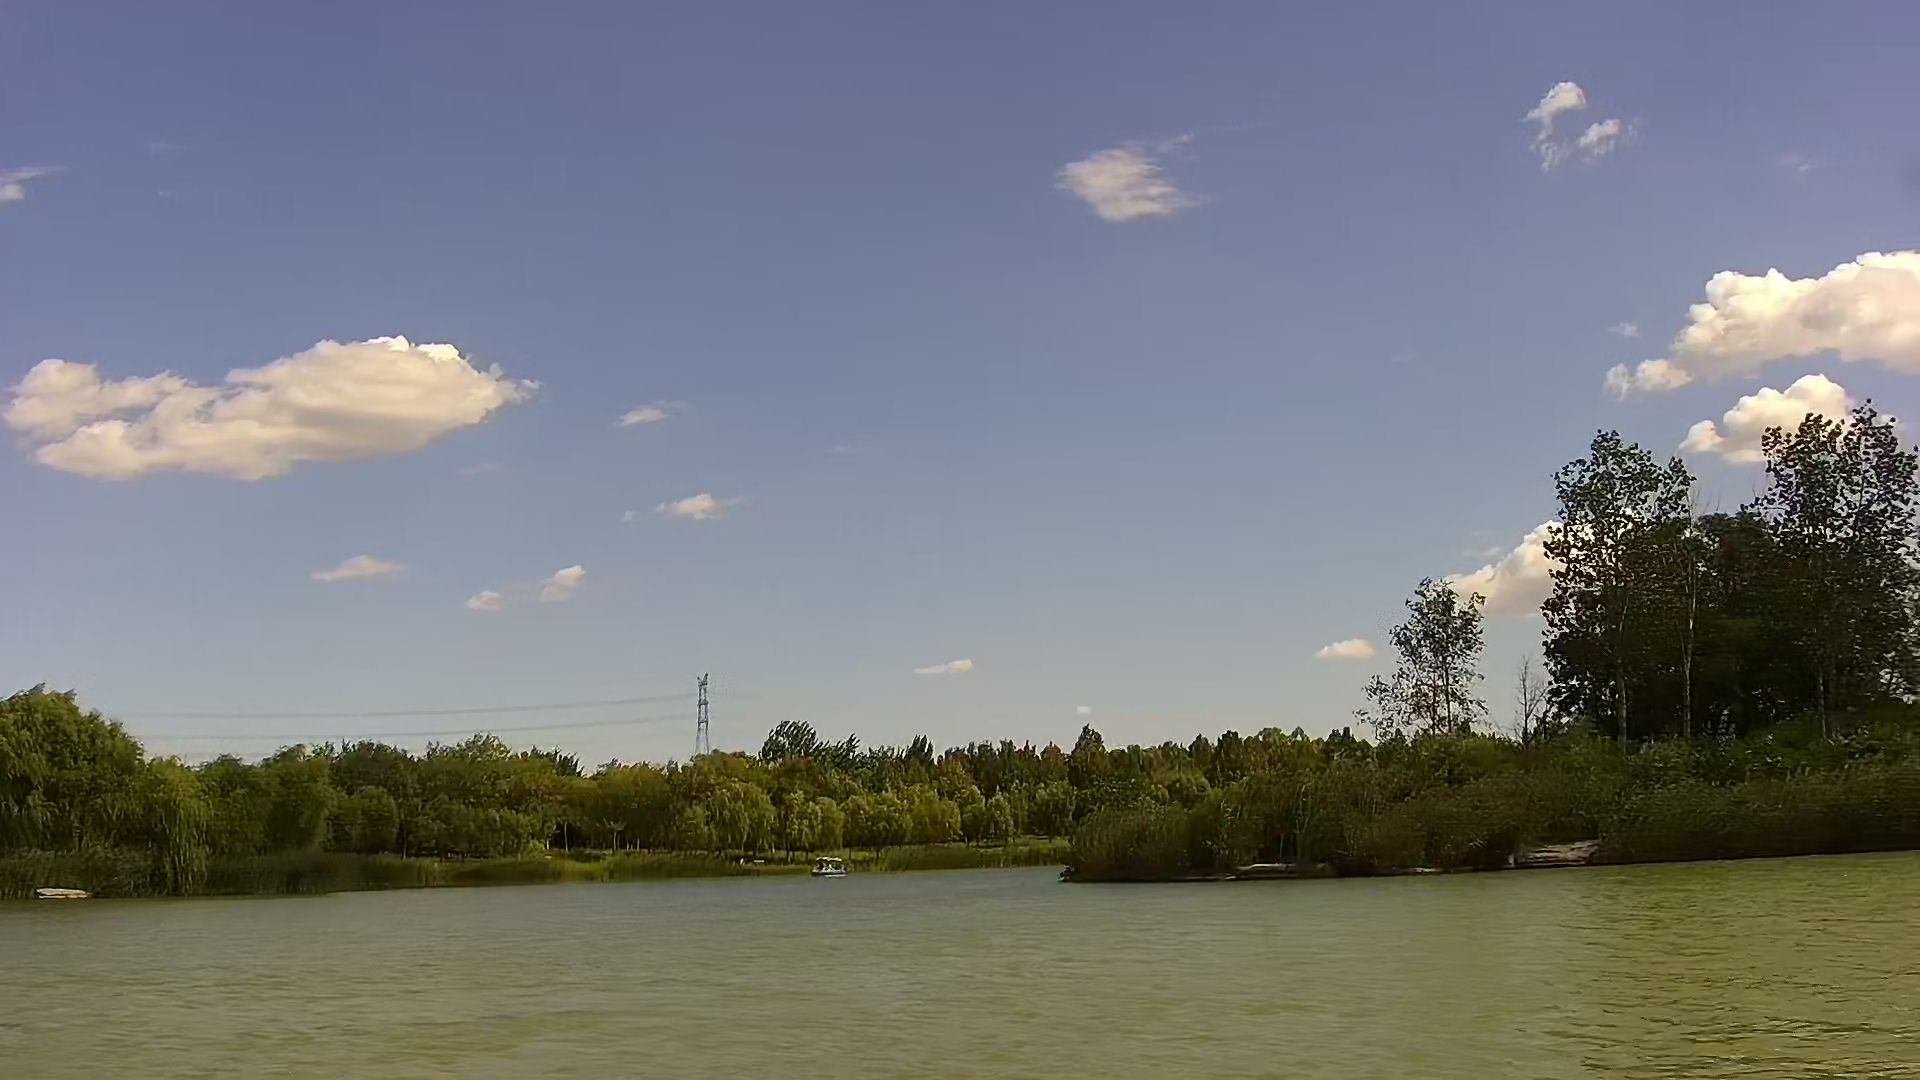boat: (808, 853, 847, 874)
rock: (1509, 839, 1597, 868), (1232, 864, 1308, 877), (32, 885, 88, 901)
